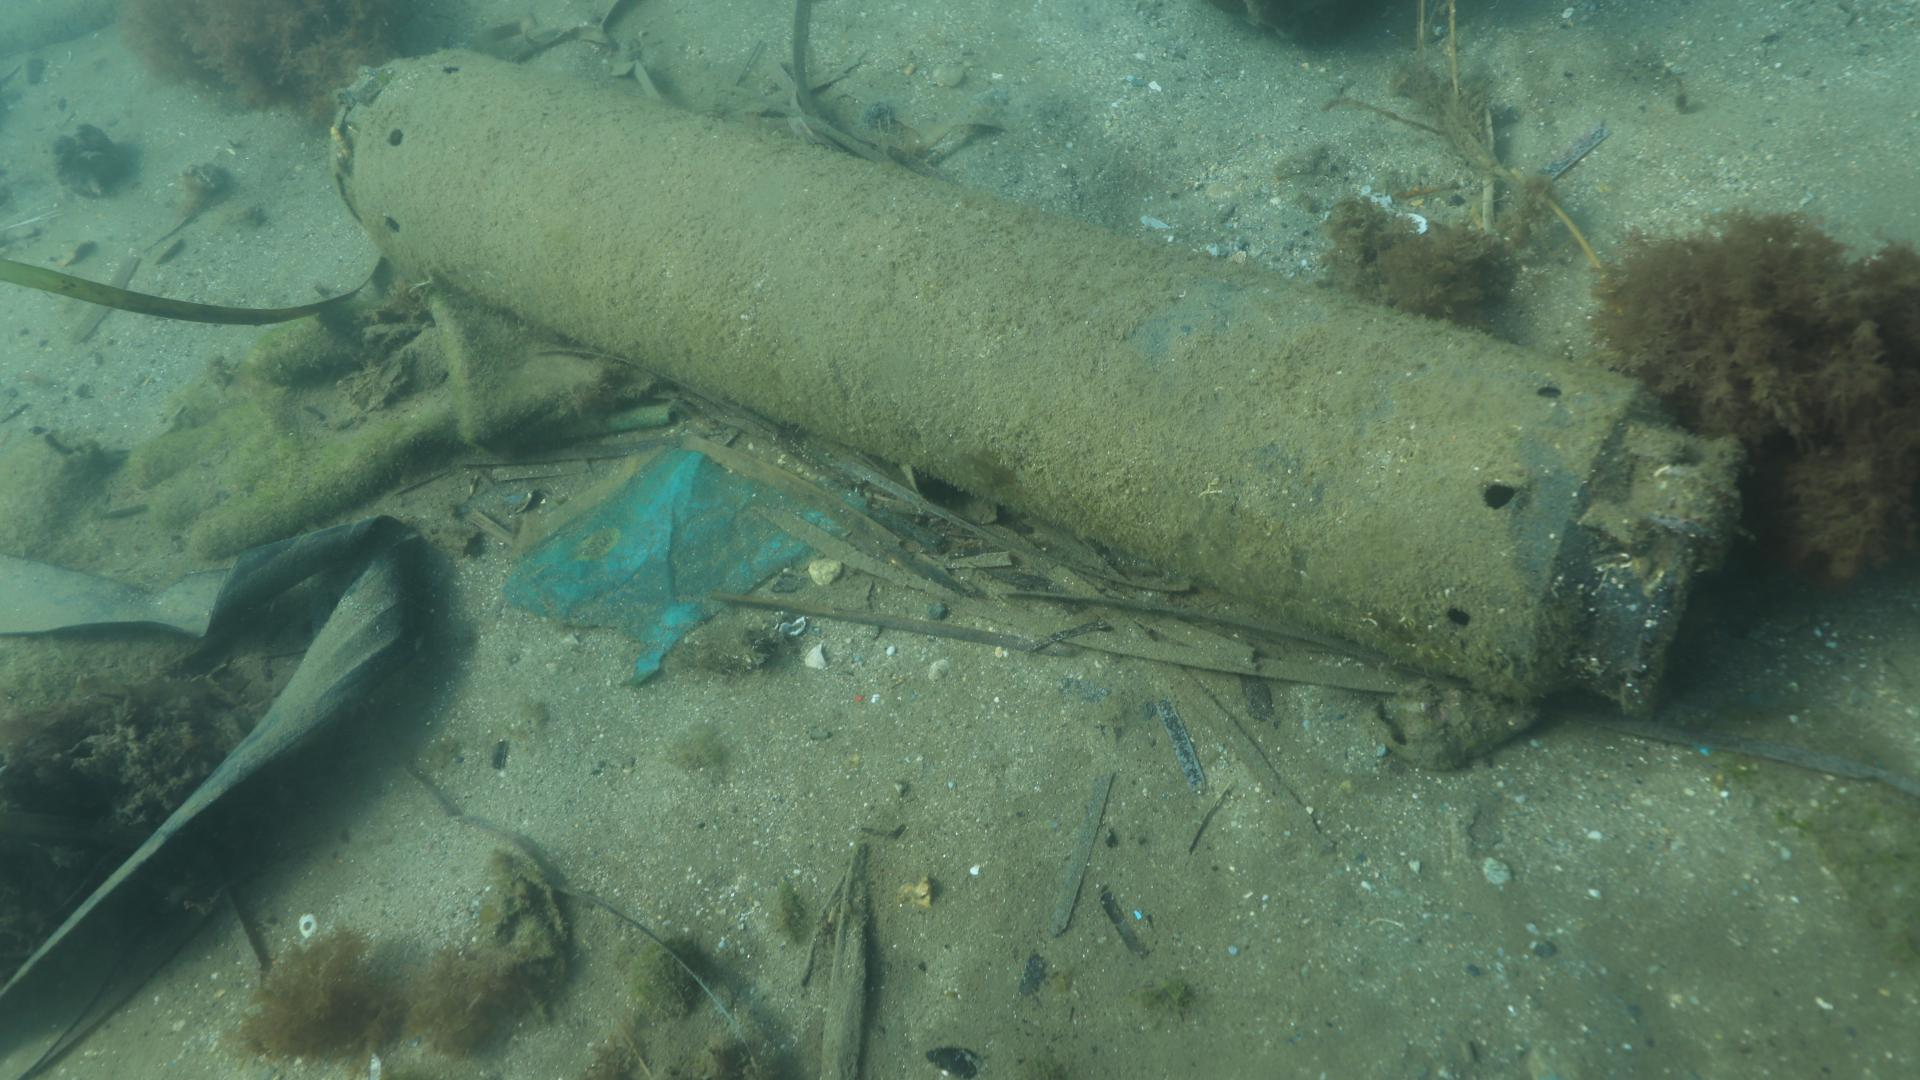eel fish trap: (336, 50, 1739, 715)
